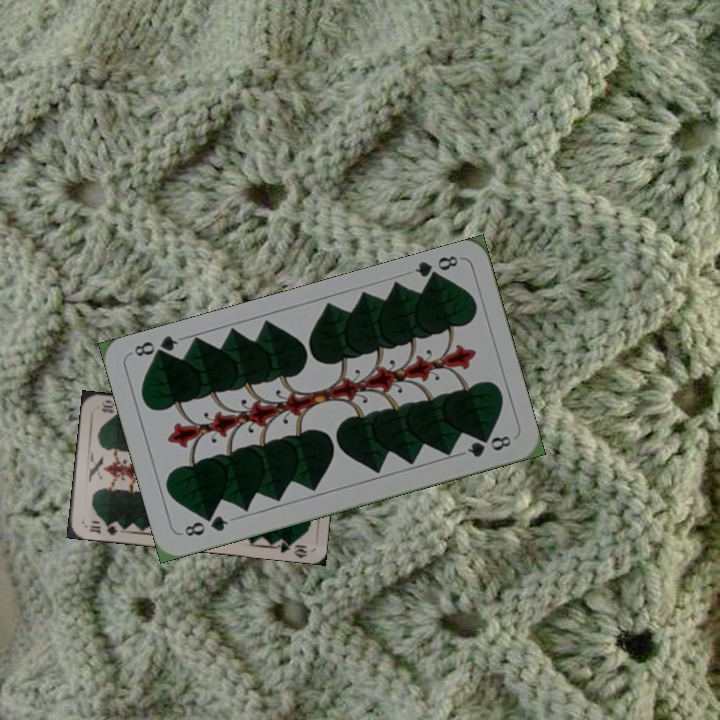G10: (85, 517, 120, 537)
G8: (410, 251, 461, 286), (180, 511, 231, 539)
